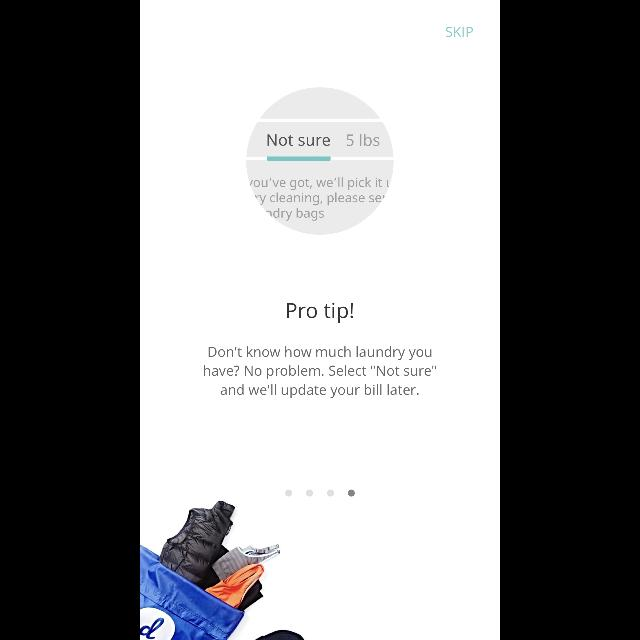image: (140, 500, 304, 640), (246, 87, 394, 235)
pageindicator: (285, 489, 355, 496)
text: (204, 346, 436, 398), (287, 303, 353, 323), (446, 27, 472, 37)
